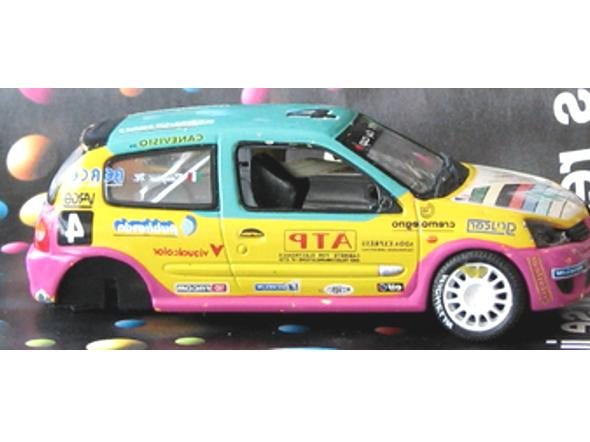toy-car: (26, 102, 590, 342)
